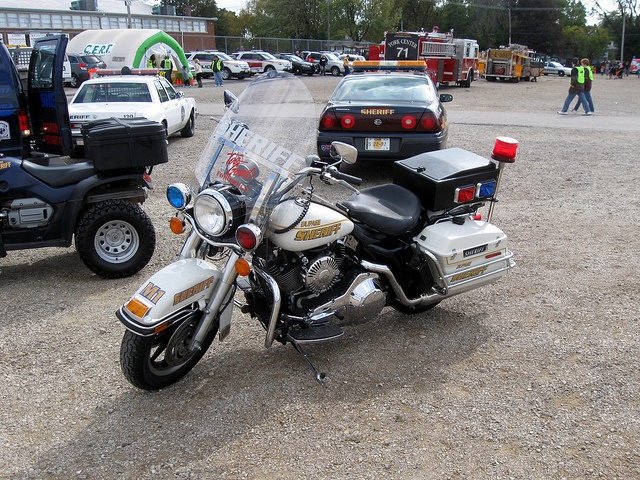non-vehicle: (114, 70, 518, 390), (0, 116, 169, 278)
